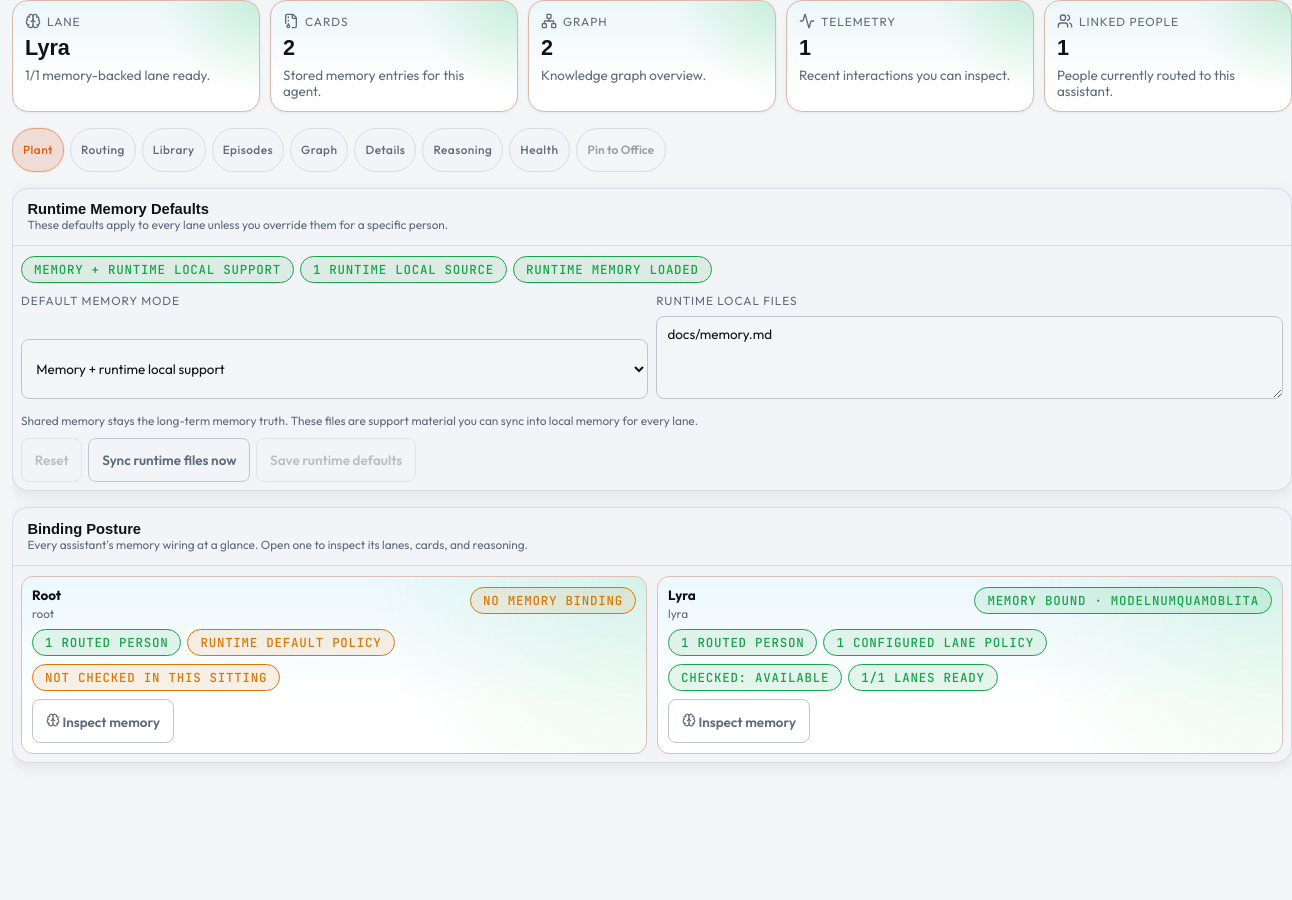
Test: MemoryPage global plant landing › opens the exact assistant from the plant posture board
Expected: the element with class "mc-memory-lane-card" that starts with "Root" is shown, [21,576,647,754]
What coordinates should you click on to do the following:
click the button "Inspect memory" below "not checked in this sitting"
I would click on:
 (103, 721)
Its box is [32,699,174,743].
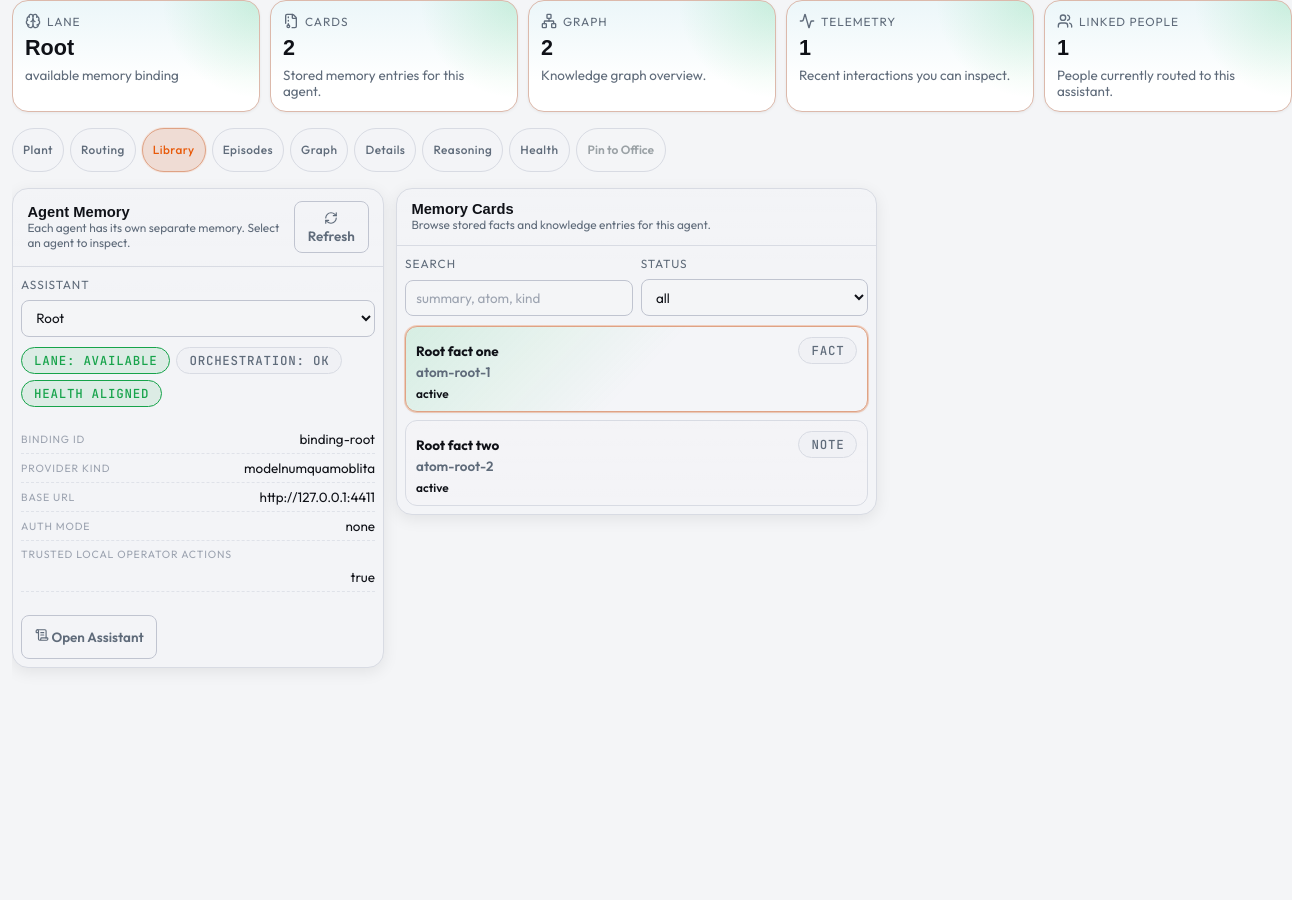
Expected: the dropdown labelled "Assistant" shows "Root", [21,300,375,337]
Expected: the text "Root fact one" is shown, [416,343,498,359]
